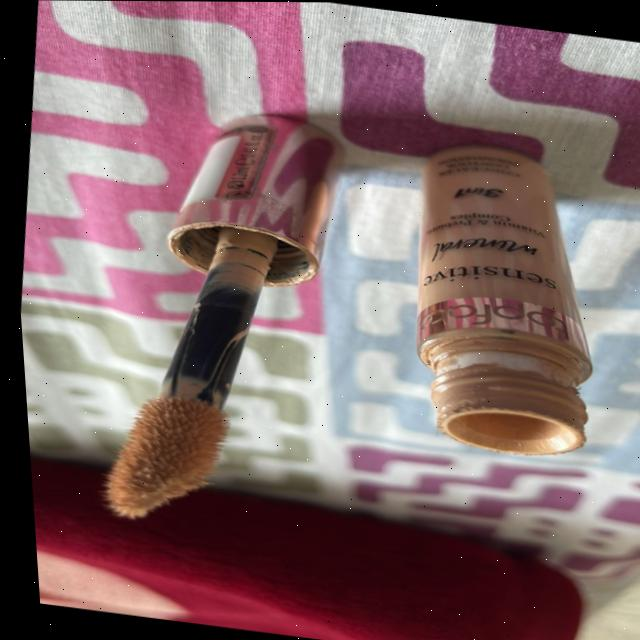concealer: (13, 62, 388, 564)
